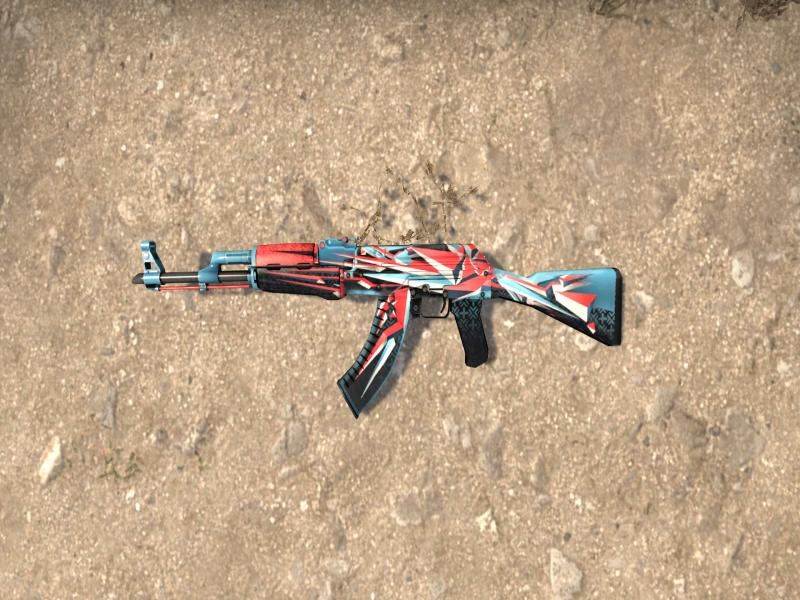AK47: (132, 237, 623, 417)
